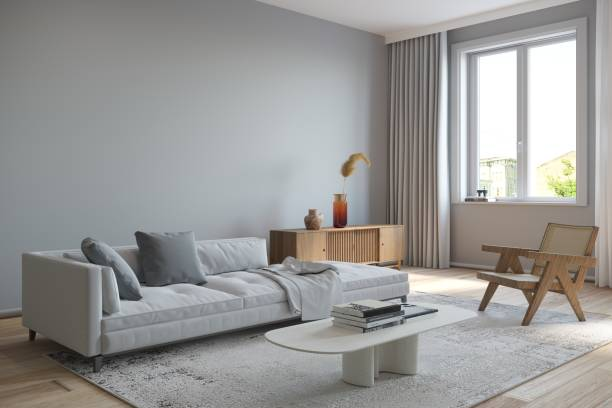chair: (474, 219, 601, 327)
sofa: (19, 227, 413, 373)
table: (262, 299, 478, 387)
